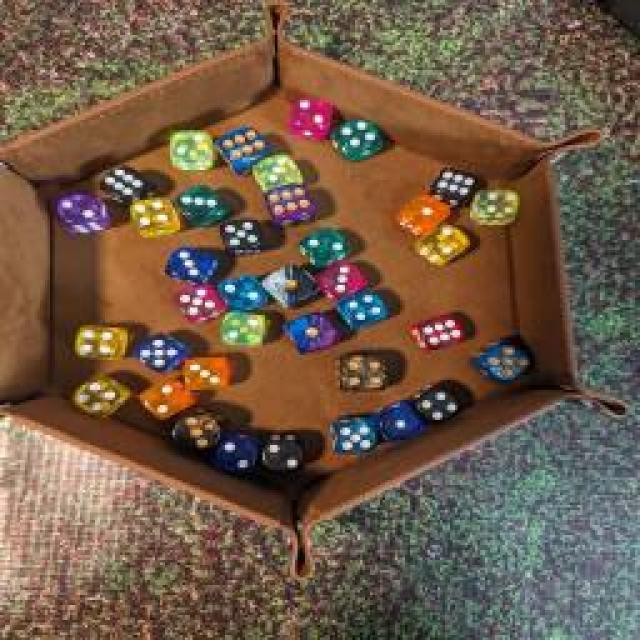dice_1: (275, 306, 345, 356), (370, 396, 432, 444), (264, 262, 318, 308), (394, 191, 448, 231)
dice_2: (131, 376, 194, 424), (409, 216, 471, 262), (255, 428, 307, 480), (54, 192, 114, 236), (284, 95, 338, 143), (208, 428, 264, 474), (298, 222, 352, 268), (219, 305, 266, 350), (217, 270, 265, 312), (169, 126, 211, 172)
dice_3: (165, 404, 230, 458), (310, 255, 378, 303), (249, 150, 306, 198), (157, 244, 215, 284), (184, 352, 234, 396), (178, 184, 222, 226)
dice_4: (70, 371, 132, 421), (329, 114, 389, 161), (330, 351, 385, 394), (126, 196, 184, 234), (340, 284, 388, 328), (409, 383, 459, 425), (470, 186, 525, 224), (76, 321, 122, 364)
dice_5: (466, 338, 534, 380), (214, 216, 274, 259), (135, 329, 193, 371), (326, 414, 382, 456), (172, 283, 220, 325)
dice_6: (212, 121, 272, 174), (408, 309, 474, 356), (425, 164, 483, 208), (259, 184, 321, 224), (99, 164, 149, 204)
